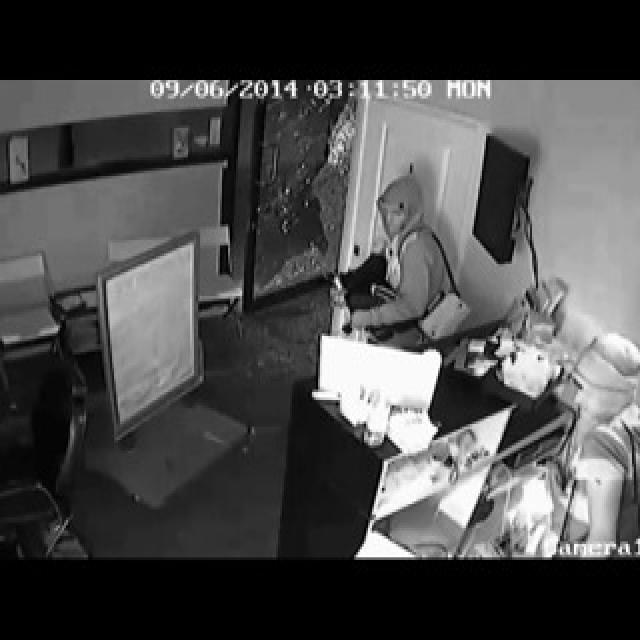thief: (337, 177, 456, 341)
